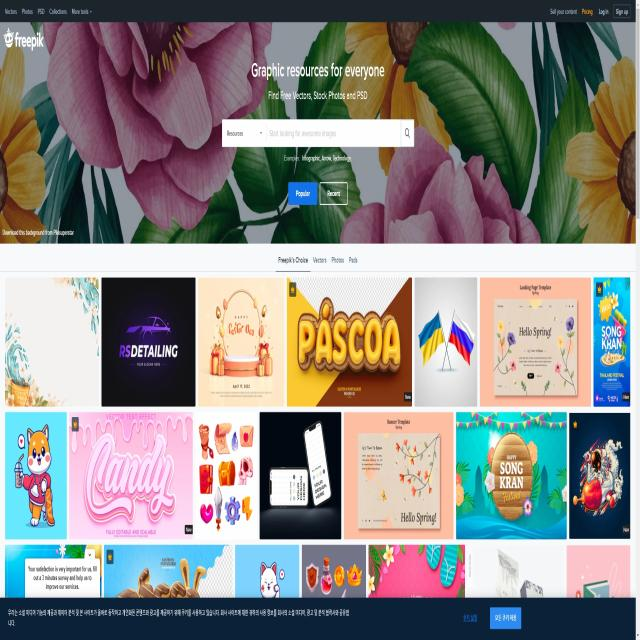menu-bar: (547, 3, 631, 17)
search: (220, 117, 416, 150)
tab-bar: (2, 1, 95, 20), (273, 251, 361, 271)
